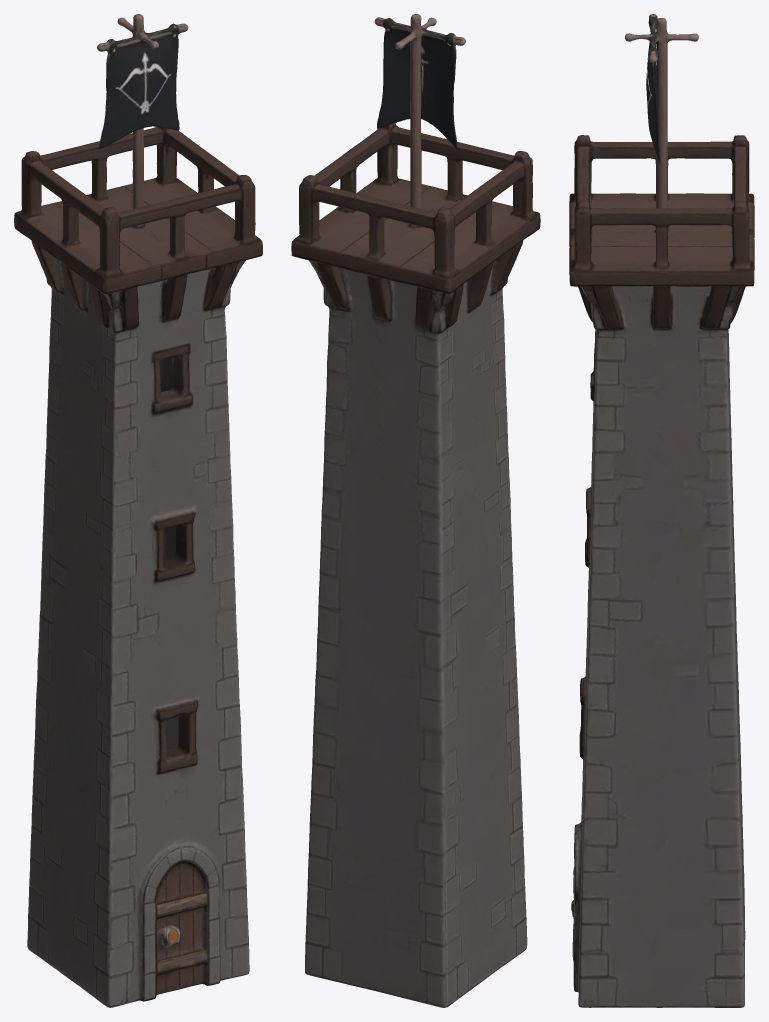
Rendered from tower.glb.
The picture shows the model from 3 angles, left to right: view 1: azimuth 30°, elevation 25°; view 2: azimuth 150°, elevation 25°; view 3: azimuth 270°, elevation 25°; orthographic projection.
Bounding box in the file's own units: 0.3339 × 1.9 × 0.3338.
Materials: 1 (1 with a texture image).
